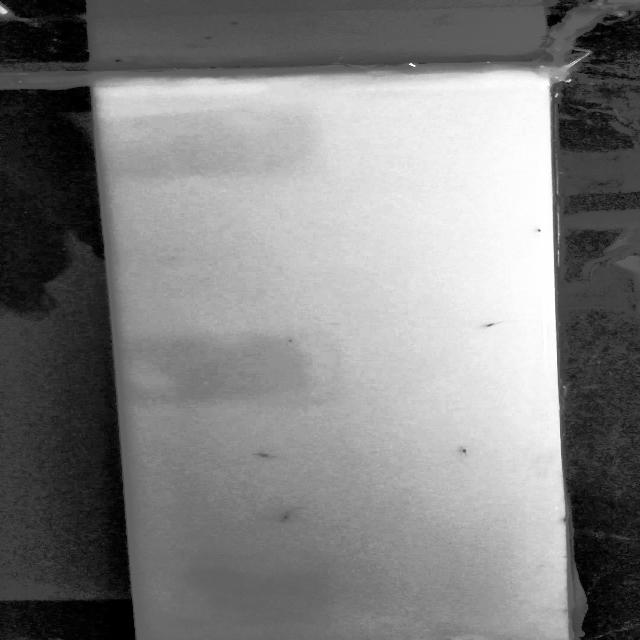shrimp: (470, 313, 516, 329), (278, 499, 307, 524), (248, 452, 284, 462), (460, 444, 475, 461), (519, 223, 543, 233)
